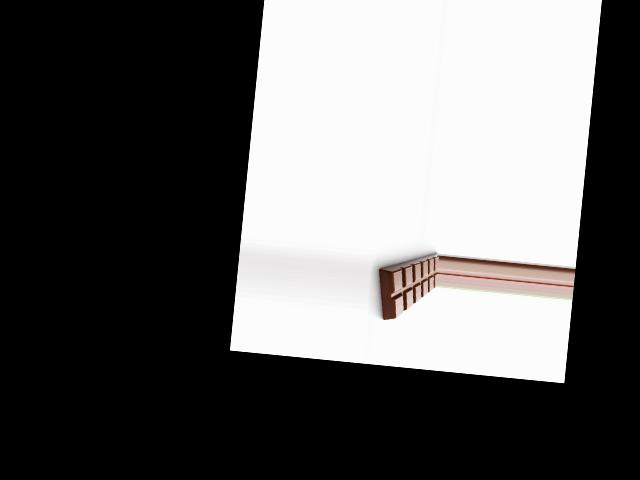chocolate: (372, 243, 439, 324)
